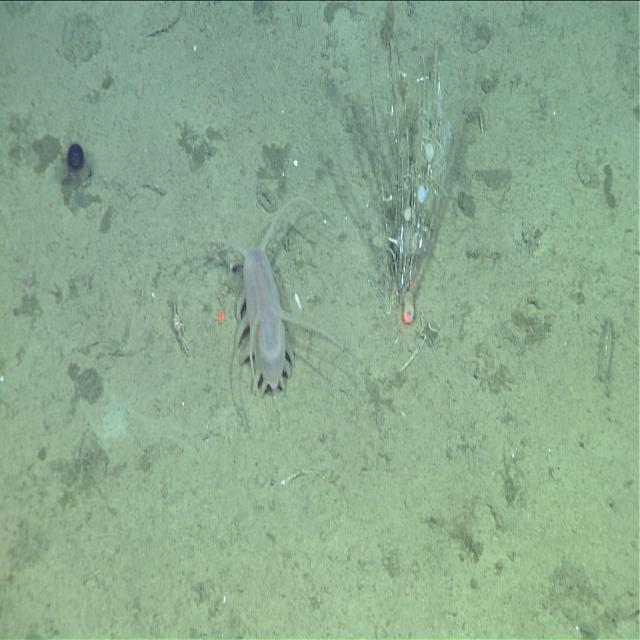Brittle Star: (418, 306, 442, 352)
Not Brittle Star: (189, 190, 343, 396), (60, 137, 88, 180), (400, 285, 416, 324), (423, 138, 435, 165), (403, 201, 414, 226)
